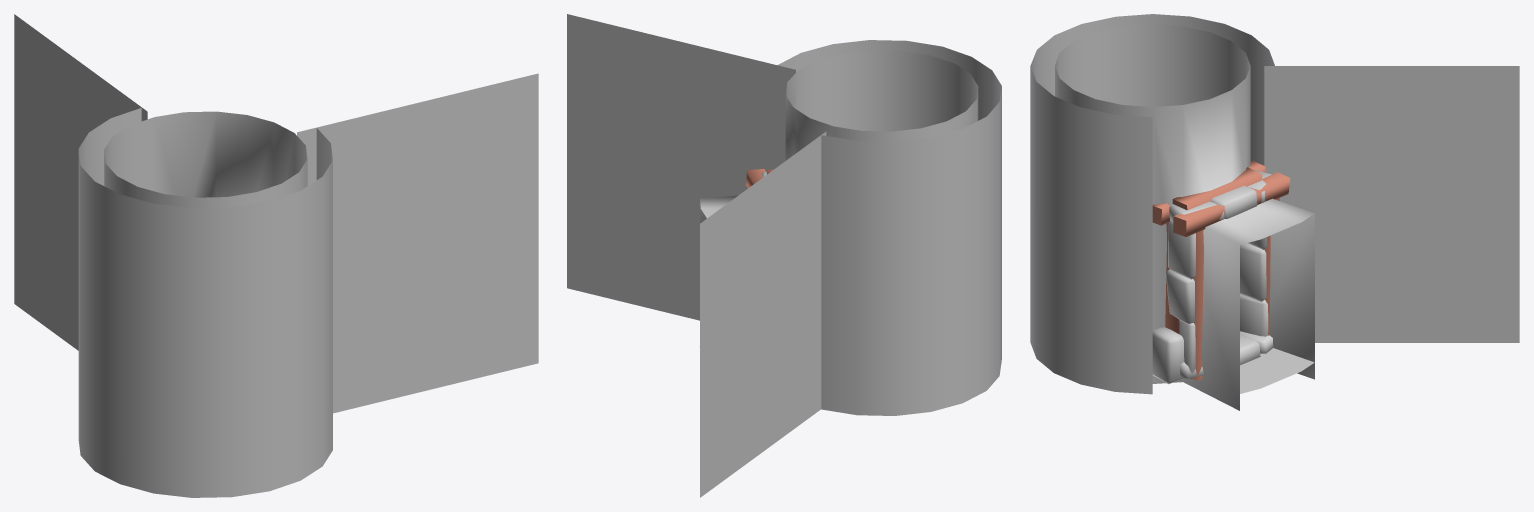
File: tower_c_segment_a_outside.fbx
3 views of the same model, side by side, from view 1: azimuth 30°, elevation 25°; view 2: azimuth 150°, elevation 25°; view 3: azimuth 270°, elevation 25° (orthographic). The views are drawn at different scales.
Parts seen in each view (by area): view 1: Cylinder.031; view 2: Cylinder.031; view 3: Cylinder.031, Cylinder.026, Cube.144.
Boxes of the visible parts, left/top/right/bottom form: Cylinder.031: left=14, top=14, right=538, bottom=497; Cylinder.031: left=567, top=14, right=1001, bottom=497; Cylinder.031: left=1030, top=14, right=1519, bottom=410; Cylinder.026: left=1152, top=169, right=1273, bottom=384; Cube.144: left=1152, top=160, right=1290, bottom=380.
Size of the model in its own units: 8.01 by 5 by 8.
